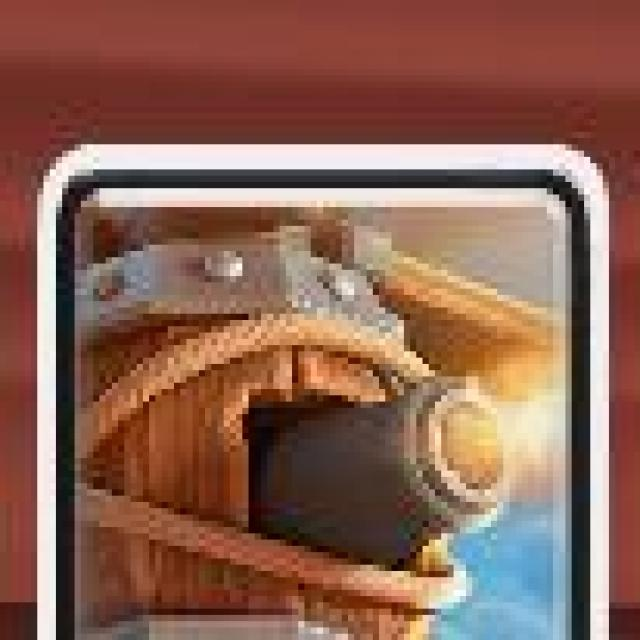Flying_Machine: (36, 145, 615, 640)
